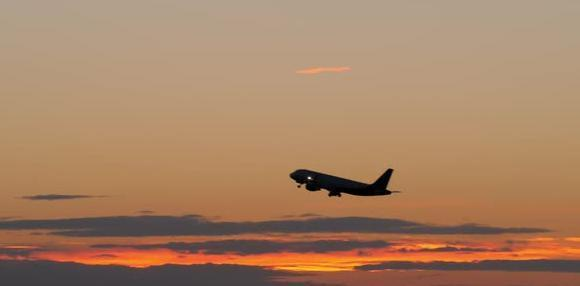aircraft: (292, 166, 400, 199)
